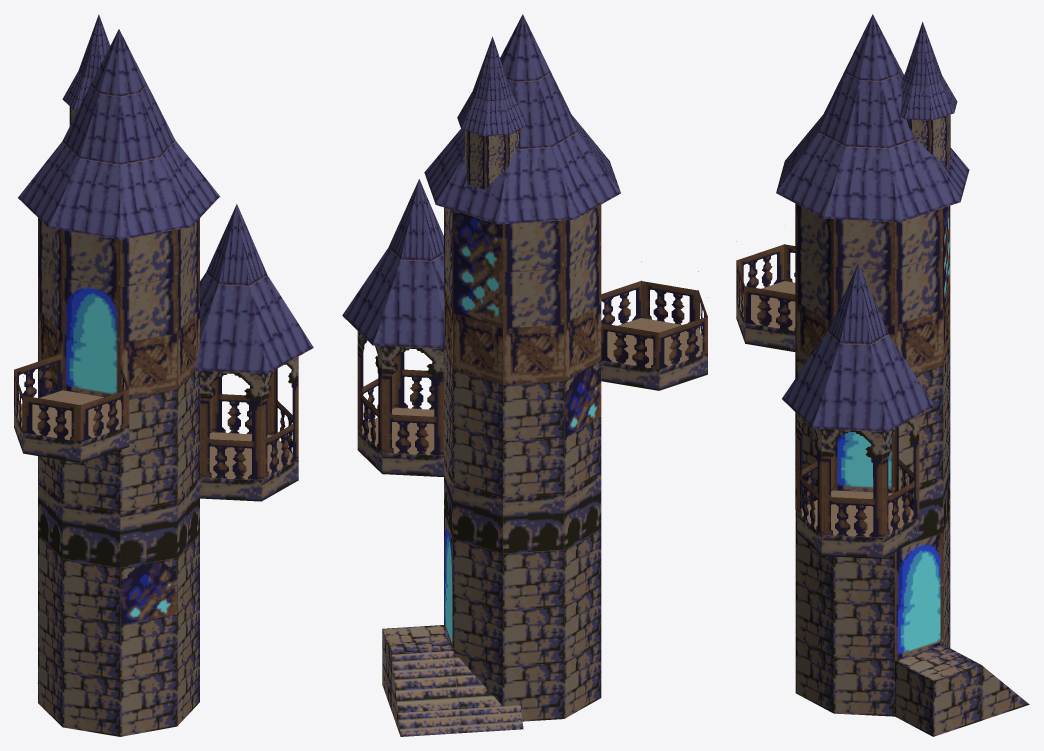
File: tower.fbx
3 views of the same model, side by side, from view 1: azimuth 30°, elevation 25°; view 2: azimuth 150°, elevation 25°; view 3: azimuth 270°, elevation 25° (orthographic).
Visible parts, largest first — view 1: tower; view 2: tower; view 3: tower.
Boxes of the visible parts, x1,y1,x2,y2 form: tower: (14, 14, 313, 736); tower: (342, 14, 707, 736); tower: (736, 14, 1029, 736).
Bounding box in the file's own units: 1164 × 2400 × 953.
1 material, 1 textured.
